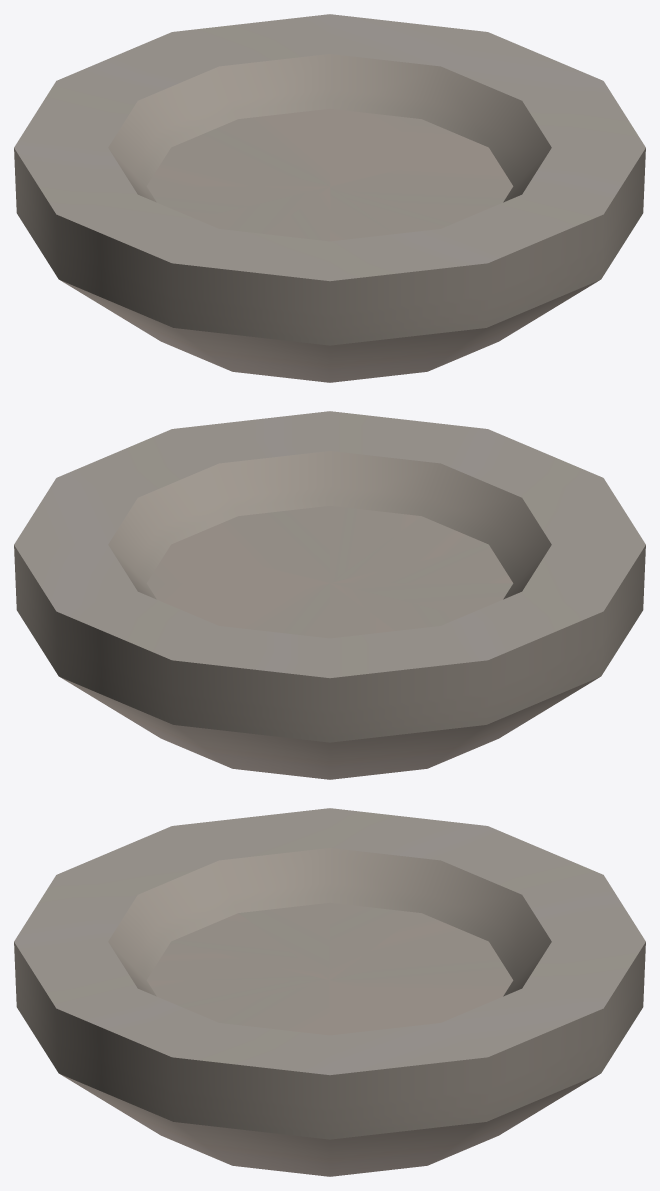
The model's file is plate-small-gltf.glb.
The picture shows the model from 3 angles, top to bottom: view 1: azimuth 30°, elevation 25°; view 2: azimuth 150°, elevation 25°; view 3: azimuth 270°, elevation 25°; orthographic projection.
Parts seen in each view (by area): view 1: plate_small; view 2: plate_small; view 3: plate_small.
Boxes of the visible parts, left/top/right/bottom form: plate_small: left=14, top=14, right=645, bottom=382; plate_small: left=14, top=411, right=645, bottom=779; plate_small: left=14, top=808, right=645, bottom=1176.
Bounding box in the file's own units: 0.4853 × 0.1294 × 0.4853.
1 material, 1 textured.
